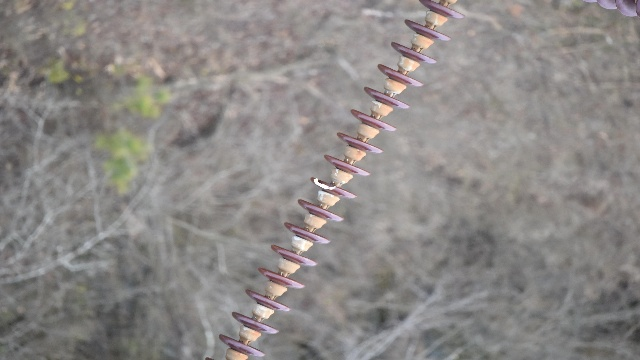broken_local: (310, 177, 341, 192)
insulator_unspecified: (209, 0, 464, 359)
